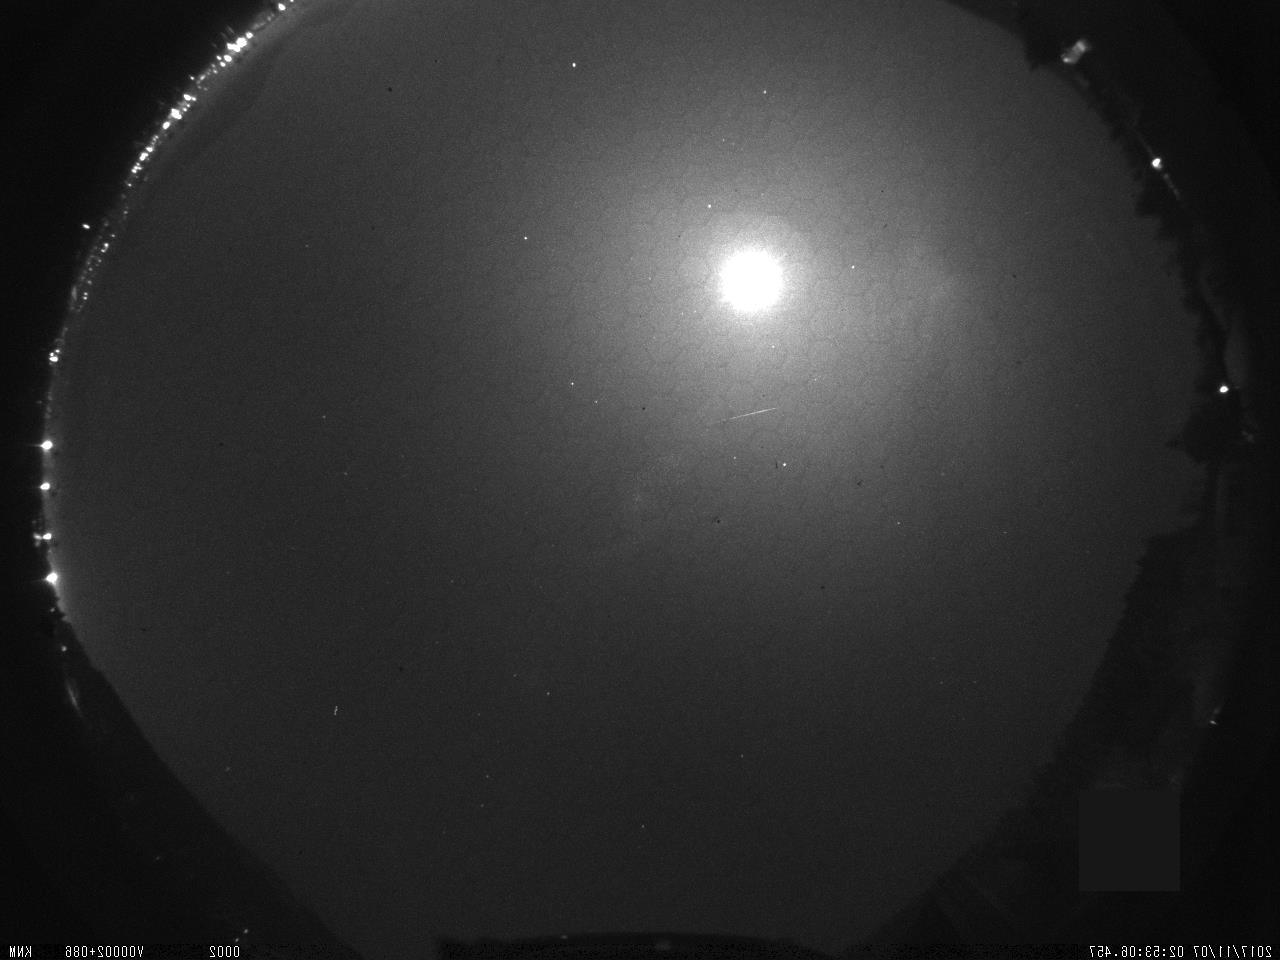meteor: (703, 396, 805, 438)
